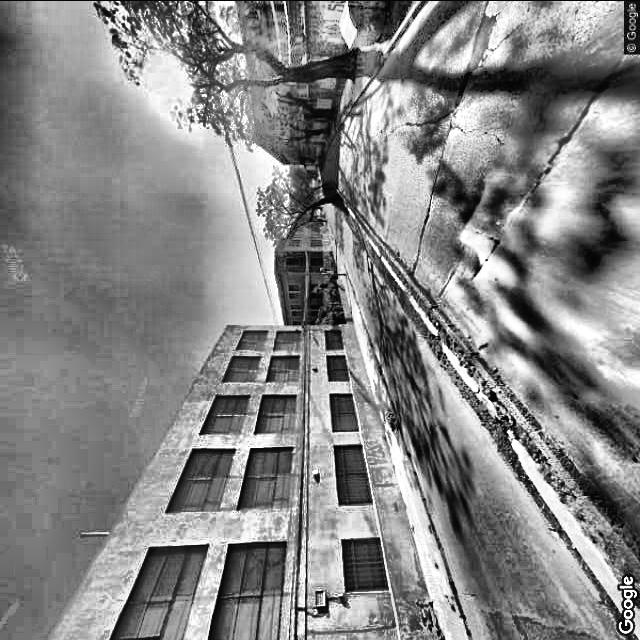Dustbin: (332, 0, 403, 53)
